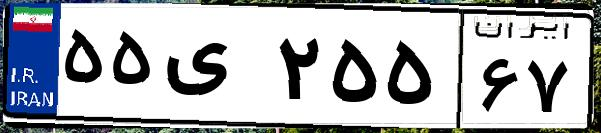2: (270, 28, 330, 110)
5: (385, 28, 445, 110), (330, 28, 385, 110), (57, 26, 110, 100), (110, 28, 158, 98)
6: (475, 38, 525, 113)
7: (525, 38, 570, 115)
ی: (158, 20, 270, 120)
